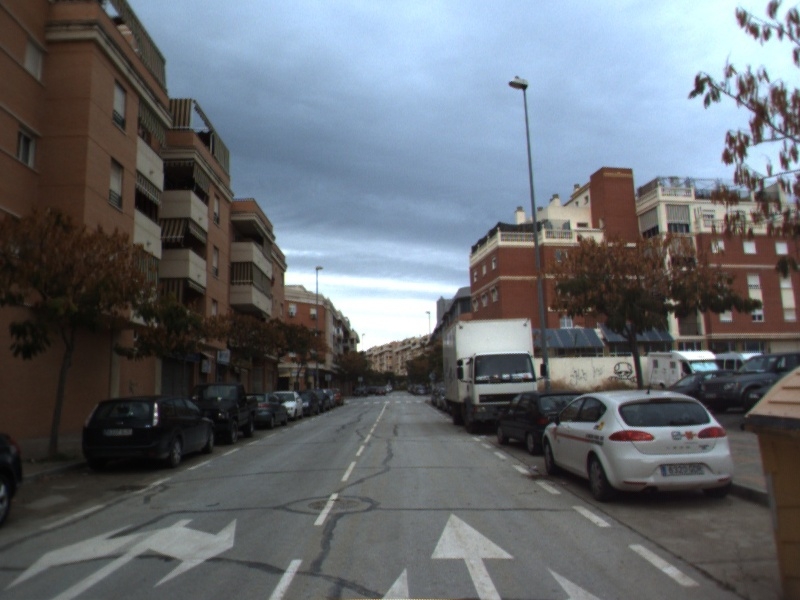STRAIGHT: (426, 507, 520, 600)
